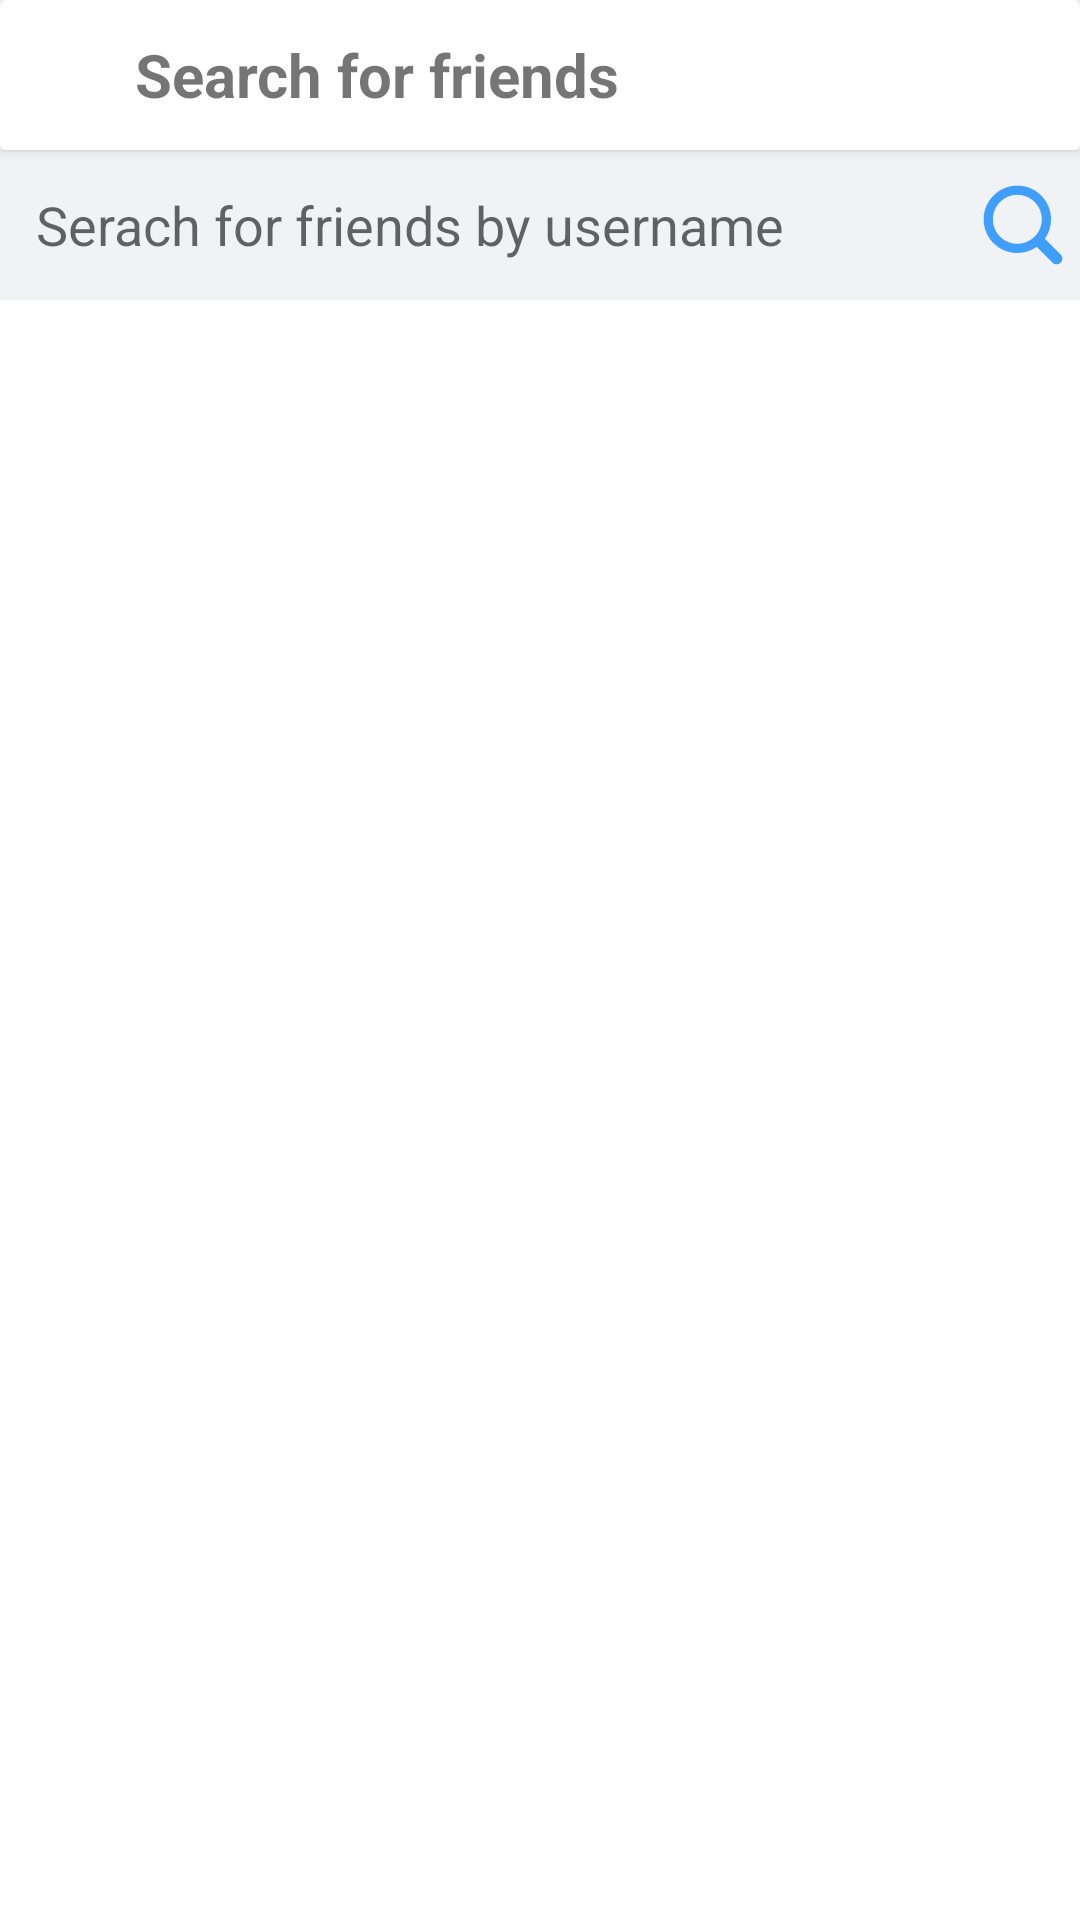

Where to tap for icons on this 1080px x 1920px app screen, as (x=x, y=y):
search: (x=1023, y=225)
